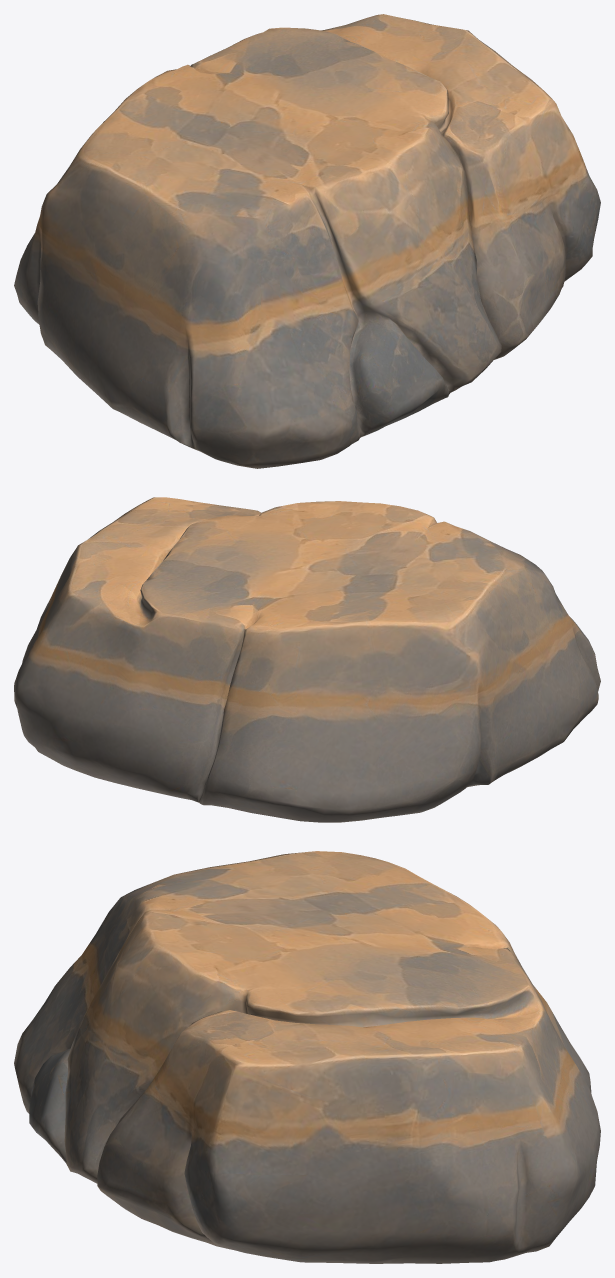
Rendered from Rocha.glb.
3 views of the same model, one above another, from view 1: azimuth 30°, elevation 25°; view 2: azimuth 150°, elevation 25°; view 3: azimuth 270°, elevation 25° (orthographic). The views are drawn at different scales.
Bounding box in the file's own units: 1 × 0.4209 × 0.9785.
1 material, 1 textured.
